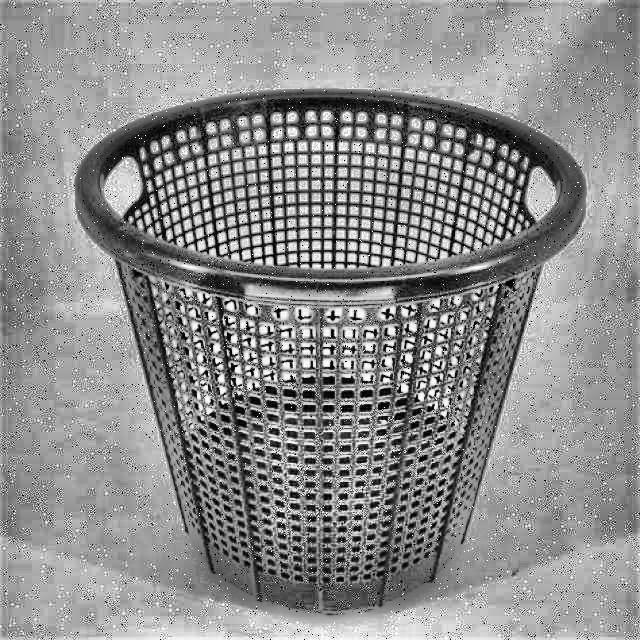Dustbin: (55, 71, 592, 624)
